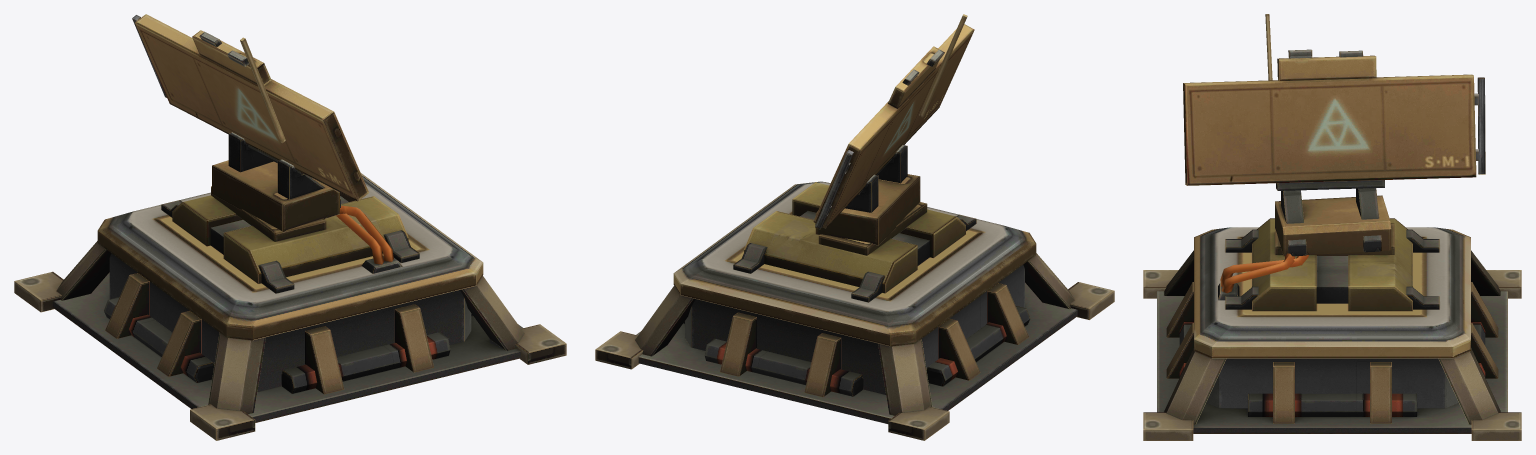
Rendered from S_survive_smi.fbx.
3 renders of one model, left to right at view 1: azimuth 30°, elevation 25°; view 2: azimuth 150°, elevation 25°; view 3: azimuth 270°, elevation 25°, orthographic. The views are drawn at different scales.
Parts seen in each view (by area): view 1: S_survive_smi; view 2: S_survive_smi; view 3: S_survive_smi.
Boxes of the visible parts, x1,y1,x2,y2 form: S_survive_smi: (14,14,566,440); S_survive_smi: (595,14,1114,440); S_survive_smi: (1143,14,1521,440).
Size of the model in its own units: 0.9904 by 0.8953 by 0.9904.
1 material, 1 textured.
